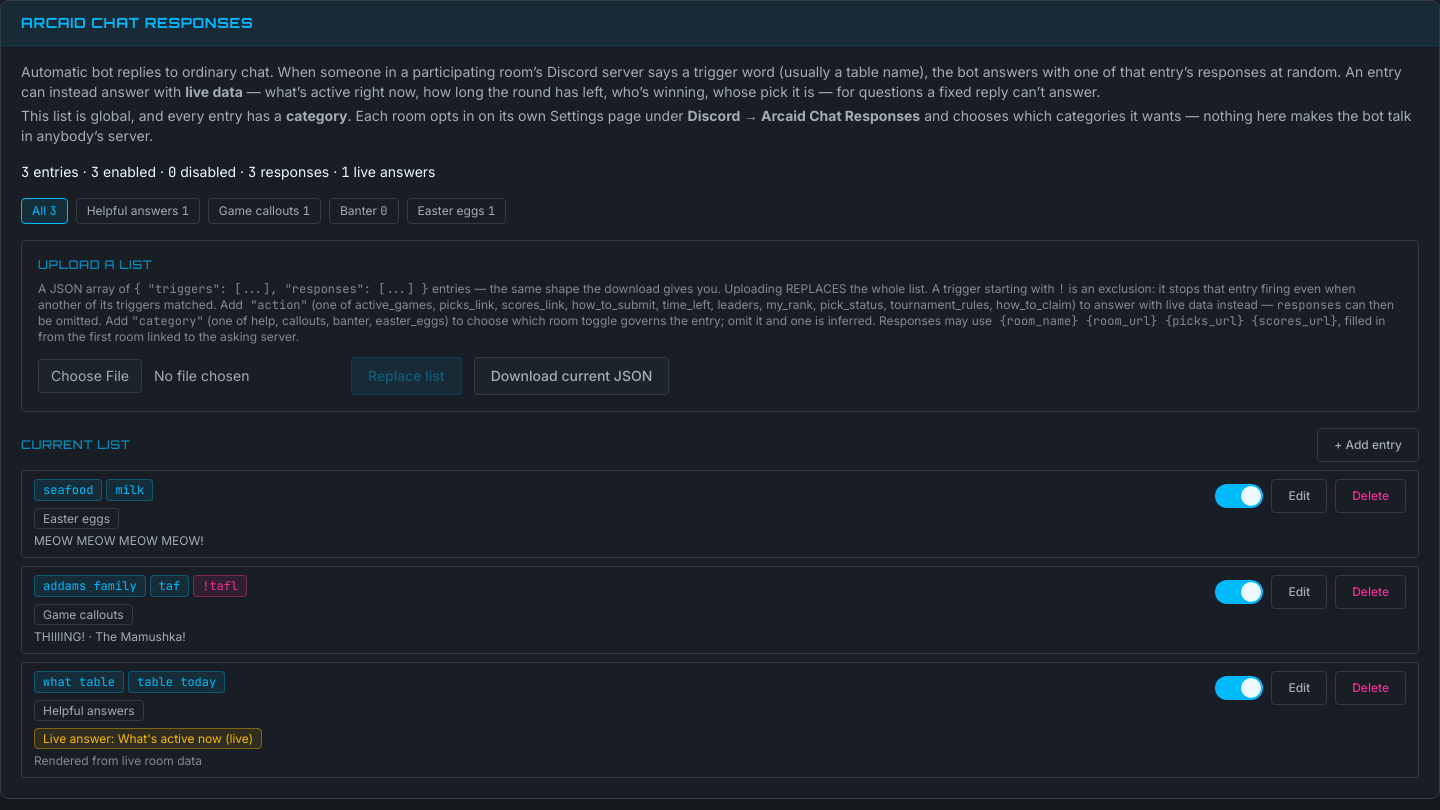
CalloutsCard › the category filter narrows the list and clears again
Expected: the number of elements with test id "callout-row" is 3, [21,470,1419,558]; [21,566,1419,654]; [21,662,1419,778]
Click the button with test id "callout-category-count-help" at (138, 211), box [76,198,200,224]
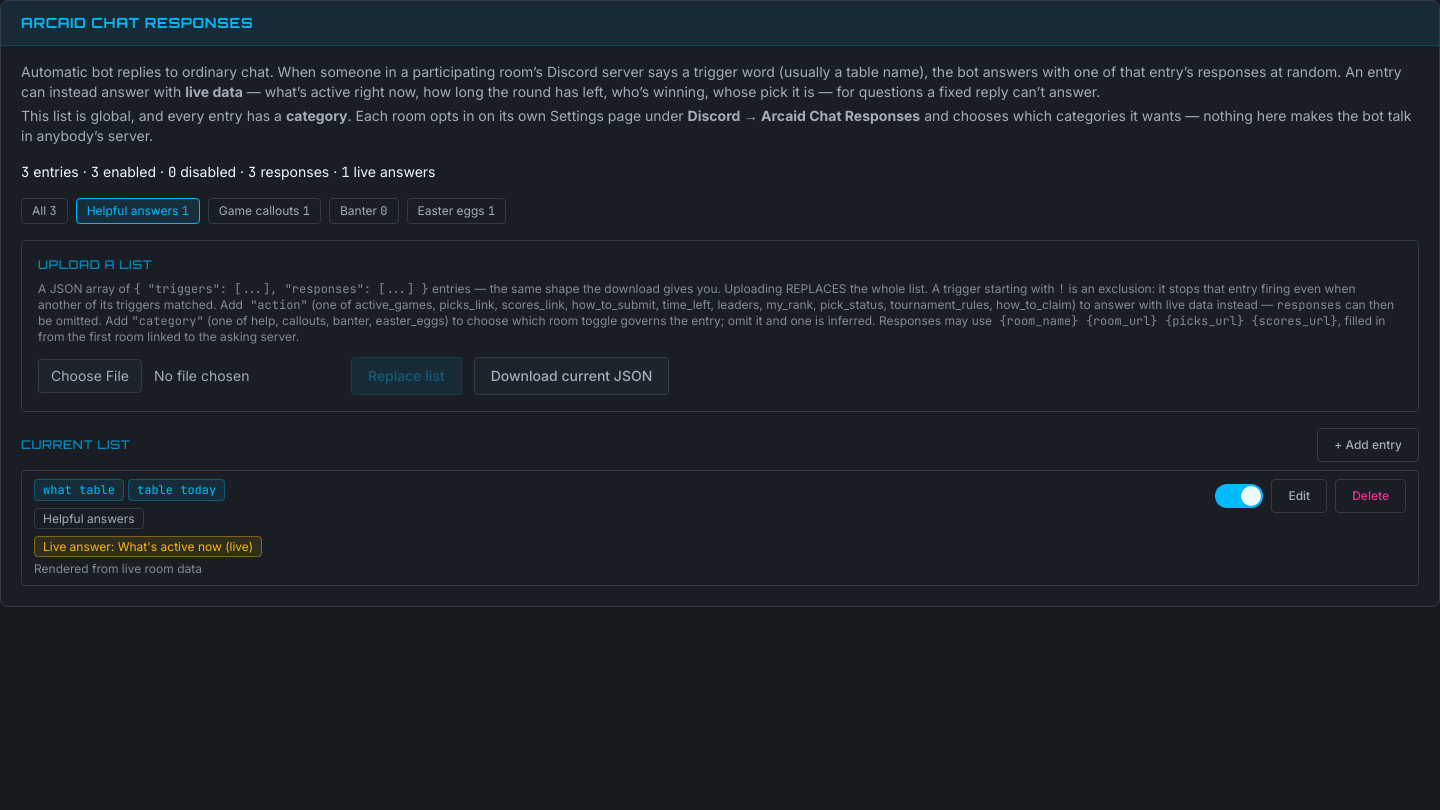
Expected: the text "Live answer: What's active now (live)" is shown, [34,536,262,557]
Expected: the number of elements with test id "callout-row" is 1, [21,470,1419,586]
// Clicking the active chip again clears the filter.
Click the button with test id "callout-category-count-help" at (138, 211), box [76,198,200,224]
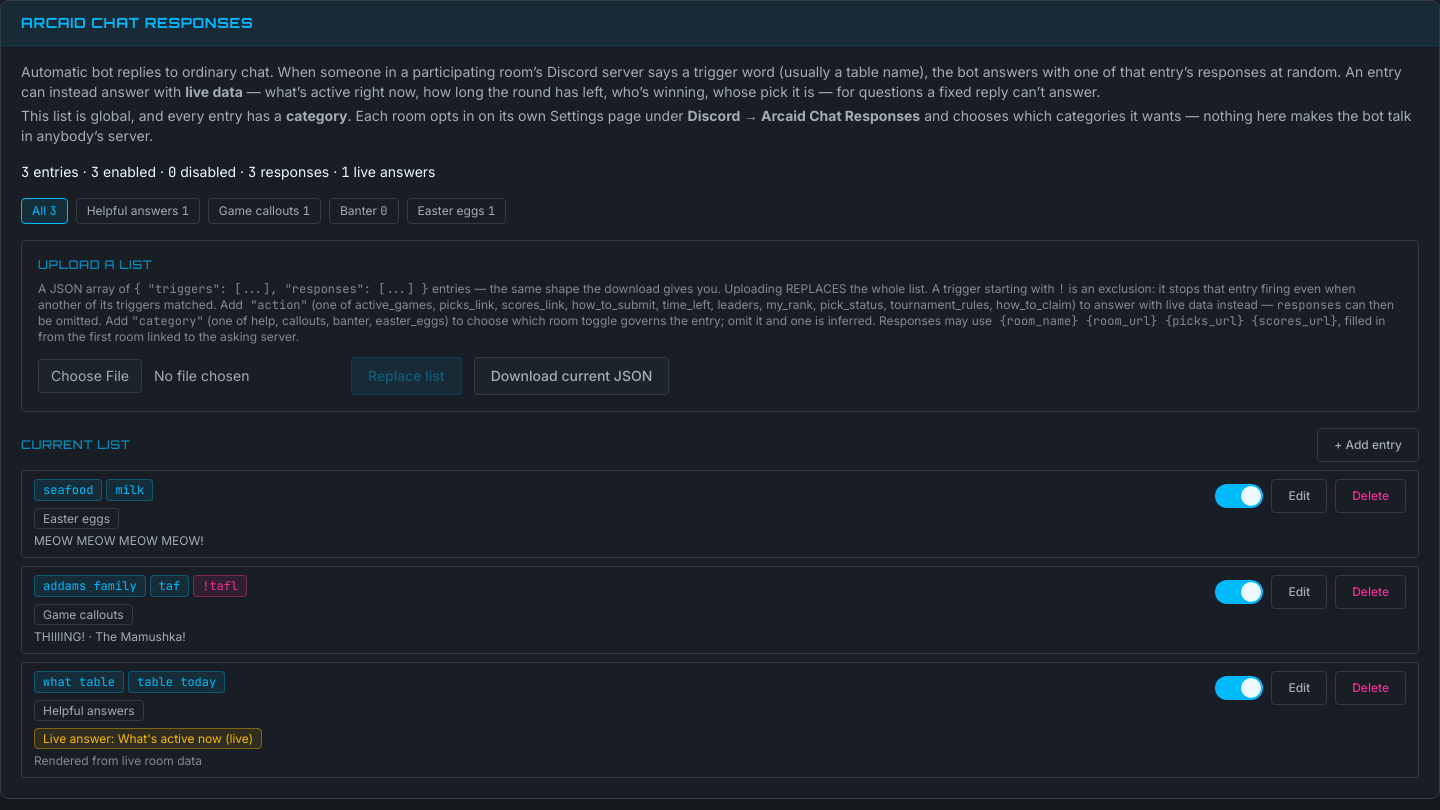
Expected: the number of elements with test id "callout-row" is 3, [21,470,1419,558]; [21,566,1419,654]; [21,662,1419,778]
